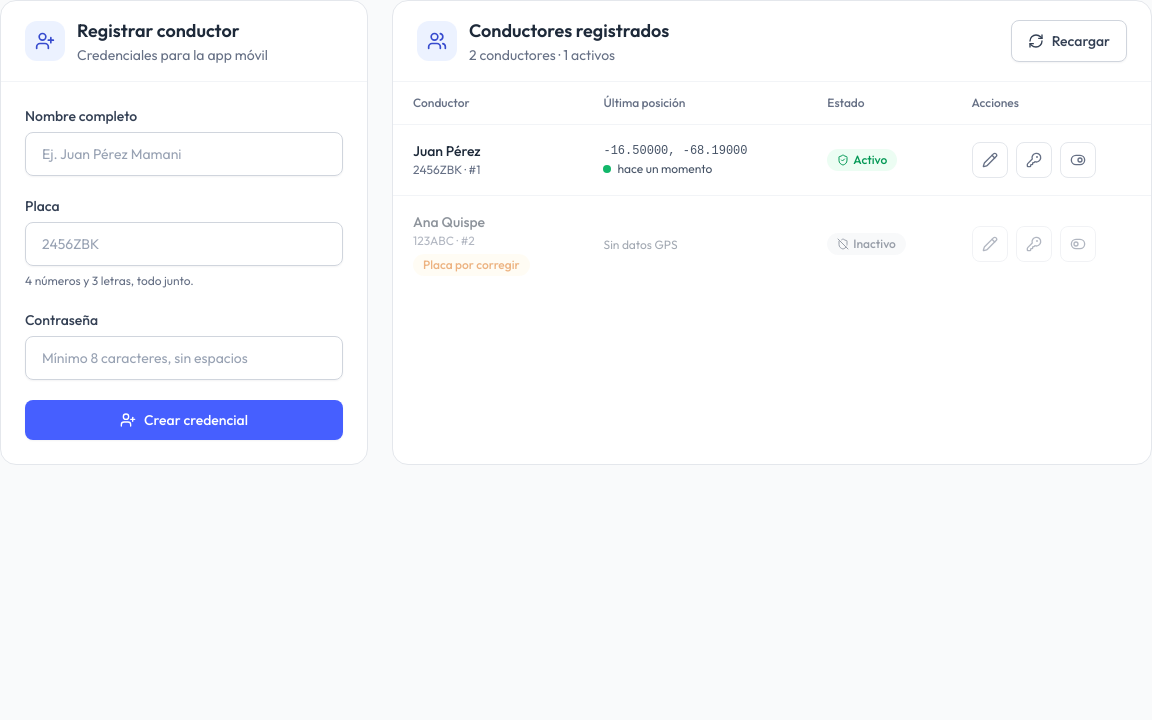
Test case: Flota › restablecer la contraseña pide al menos 8 caracteres sin espacios y cierra al terminar
This screenshot has width=1152, height=720.
Click the button named "Restablecer contraseña de Juan Pérez".
click(1034, 160)  # box [1016, 142, 1052, 178]
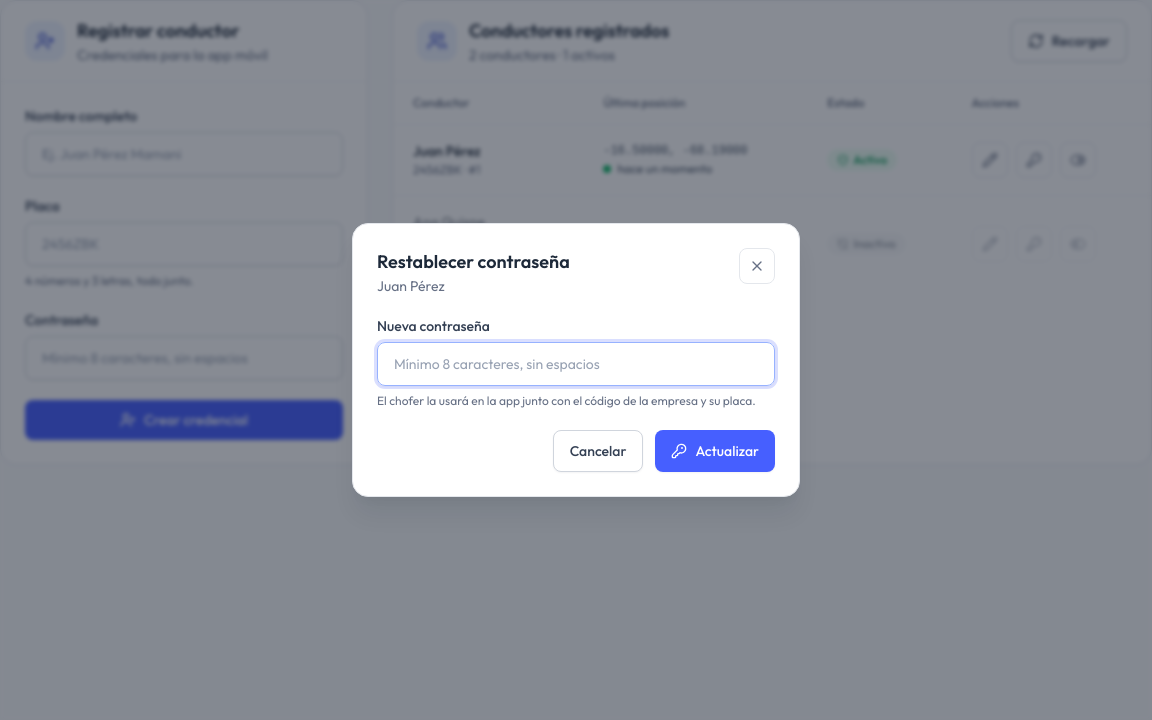
Type "a b" into the password field labelled "Nueva contraseña".
click(576, 364); type("a b")  # box [377, 342, 775, 386]
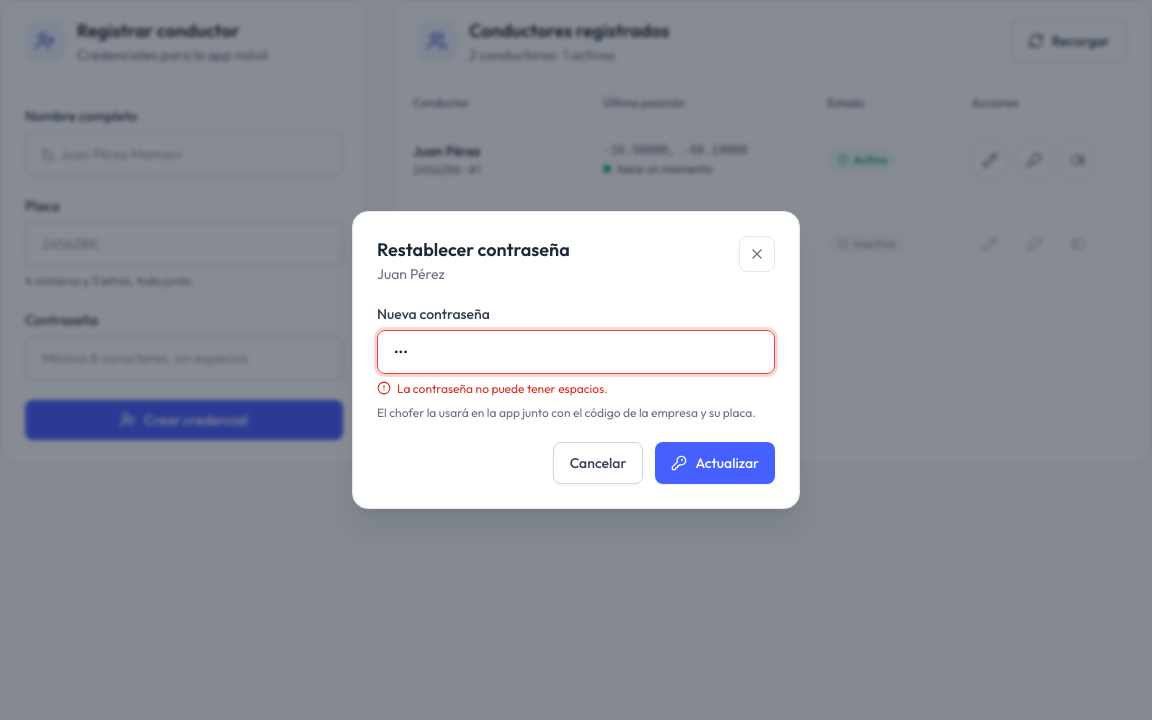
Check: the message shows "espacios", box [397, 381, 608, 396]
Clear the password field labelled "Nueva contraseña" at (576, 352), box [377, 330, 775, 374]
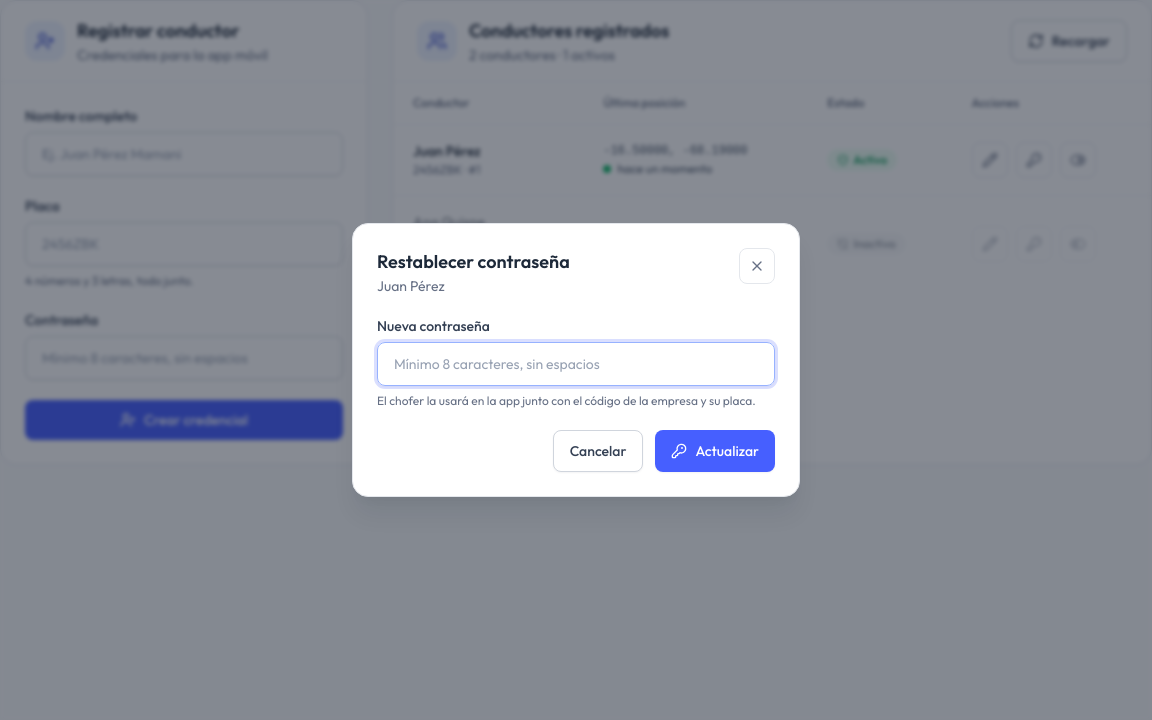
Type "nueva12345" into the password field labelled "Nueva contraseña".
click(576, 364); type("nueva12345")  # box [377, 342, 775, 386]
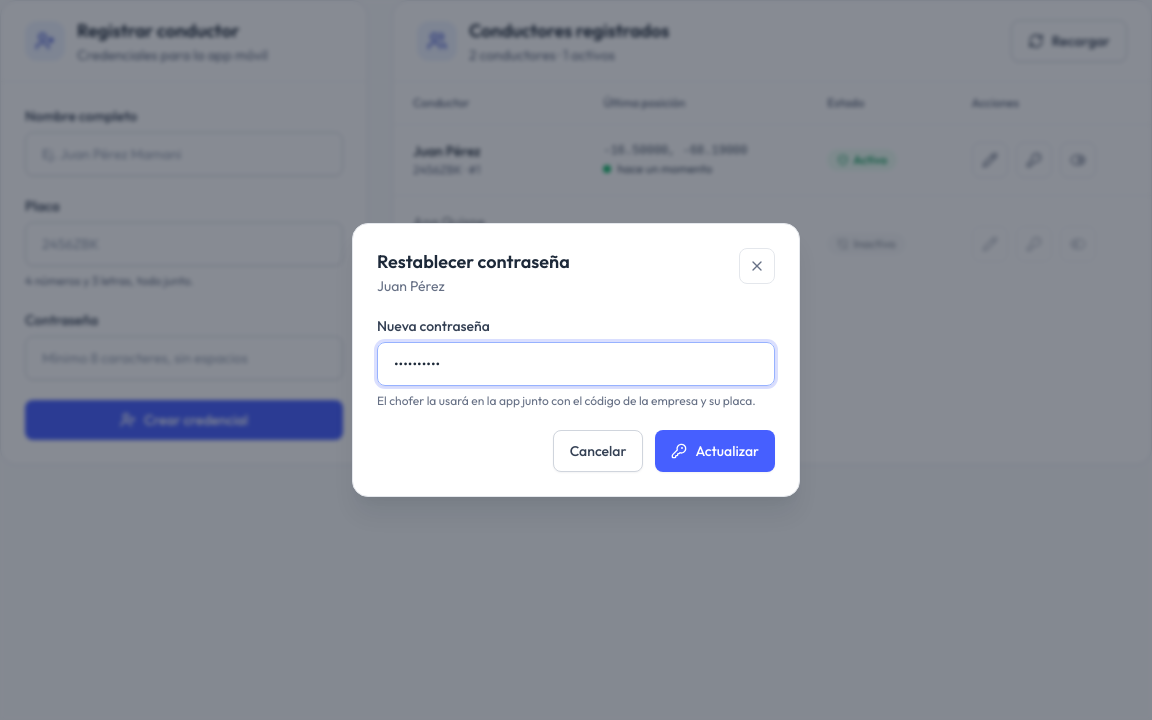
Click the button "Actualizar".
click(715, 451)  # box [655, 430, 775, 472]
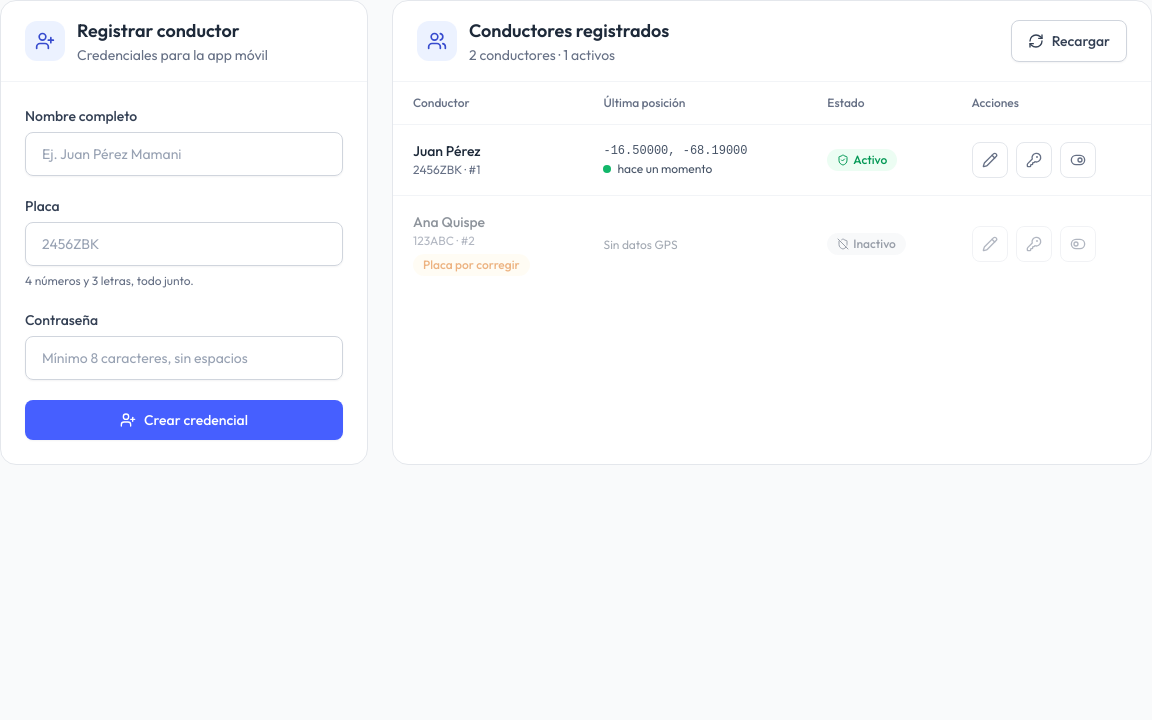
Check: the dialog is gone
